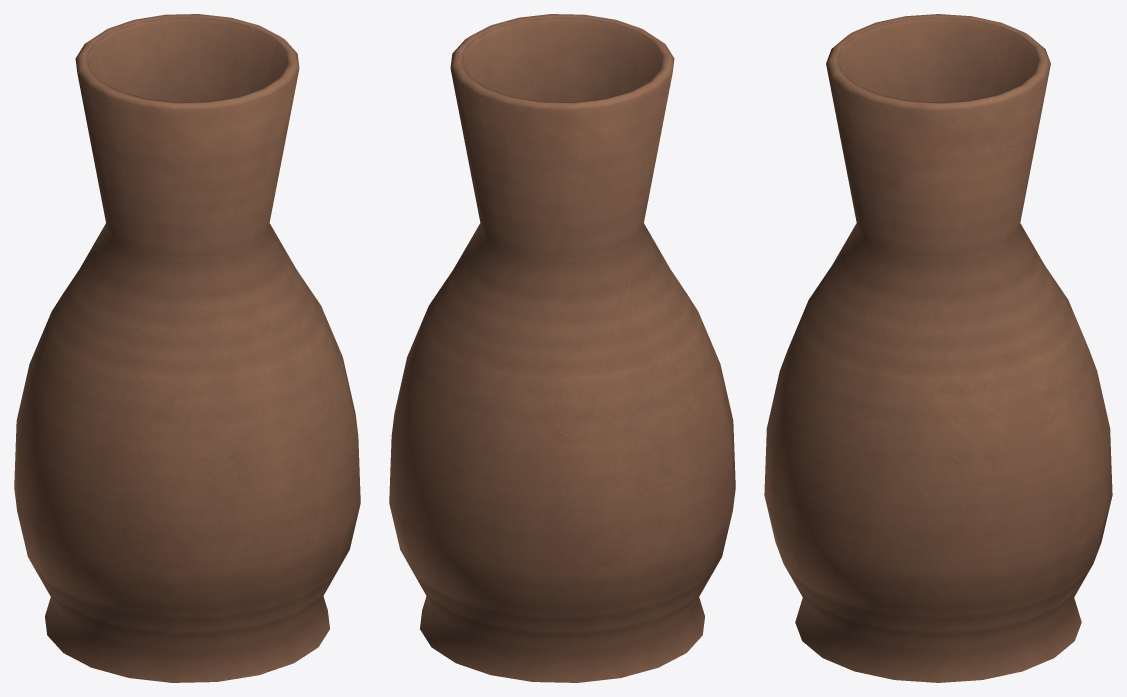
File: vase_01.fbx
3 views of the same model, side by side, from view 1: azimuth 30°, elevation 25°; view 2: azimuth 150°, elevation 25°; view 3: azimuth 270°, elevation 25° (orthographic).
Parts seen in each view (by area): view 1: vase_01; view 2: vase_01; view 3: vase_01.
Boxes of the visible parts, box(x1,y1,x2,y2) form: vase_01: box(14, 14, 360, 682); vase_01: box(389, 14, 735, 682); vase_01: box(764, 14, 1112, 682).
Size of the model in its own units: 29.19 by 52.1 by 29.19.
